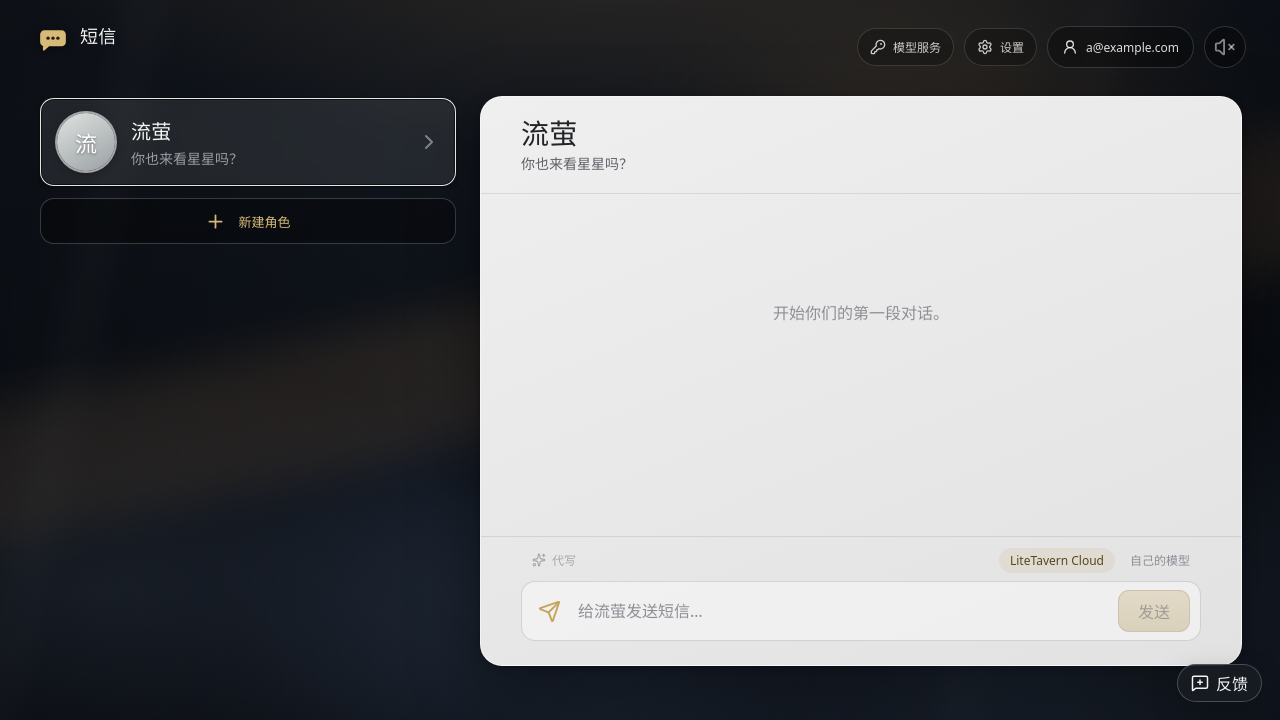
Test: adopts the server branch once it contains the turn that just happened
The width and height of the screenshot is (1280, 720).
Type "你好" into the text box with placeholder "给流萤发送短信…" at (841, 611), box [576,597,1106,625]
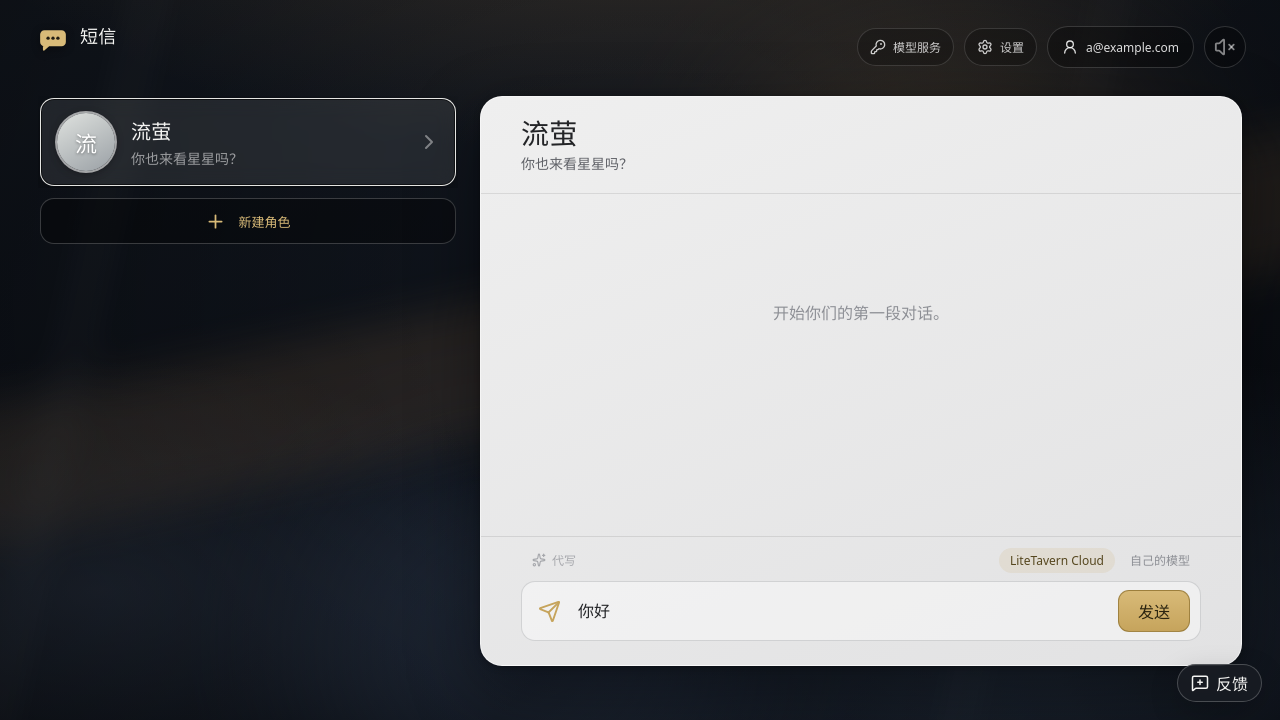
Click the button "发送" at (1154, 611), box [1118,590,1190,632]
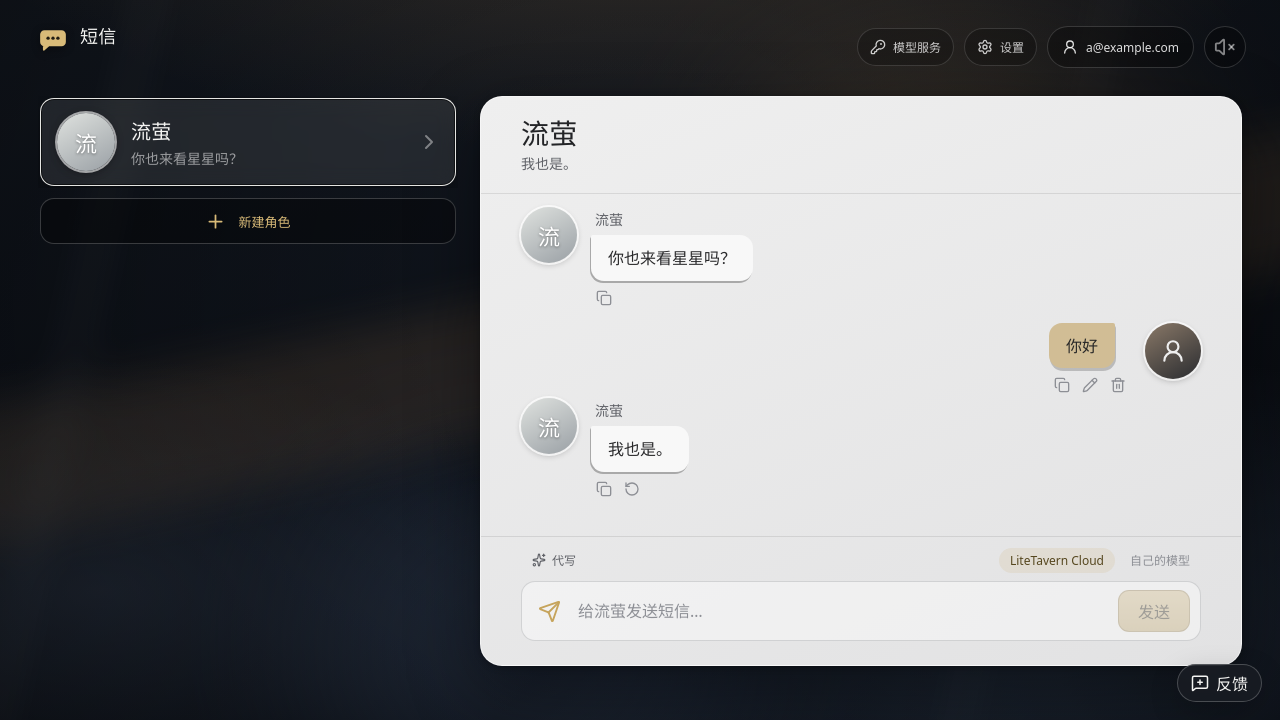
Expected: the 2nd text "我也是。" is shown, [591,426,689,472]
Expected: the text "你好" is shown, [1049,323,1115,368]
